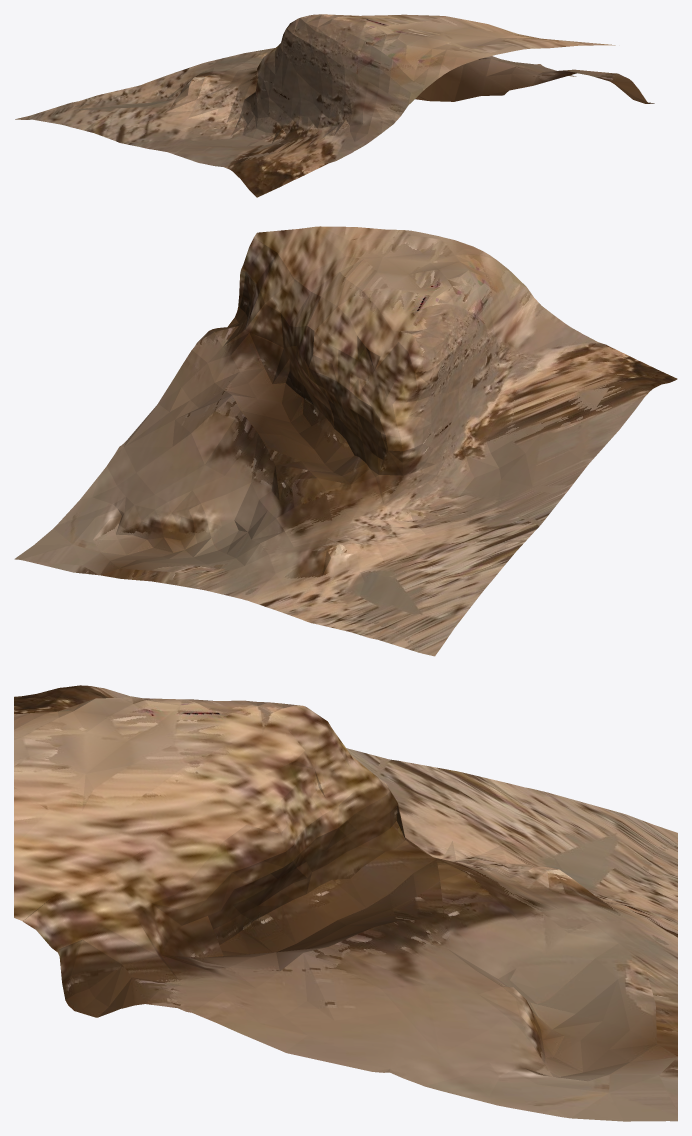
3 views of the same model, one above another, from view 1: azimuth 30°, elevation 25°; view 2: azimuth 150°, elevation 25°; view 3: azimuth 270°, elevation 25° (orthographic). The views are drawn at different scales.
Bounding box in the file's own units: 1.04 × 0.4609 × 1.04.
Materials: 3 (3 with a texture image).
